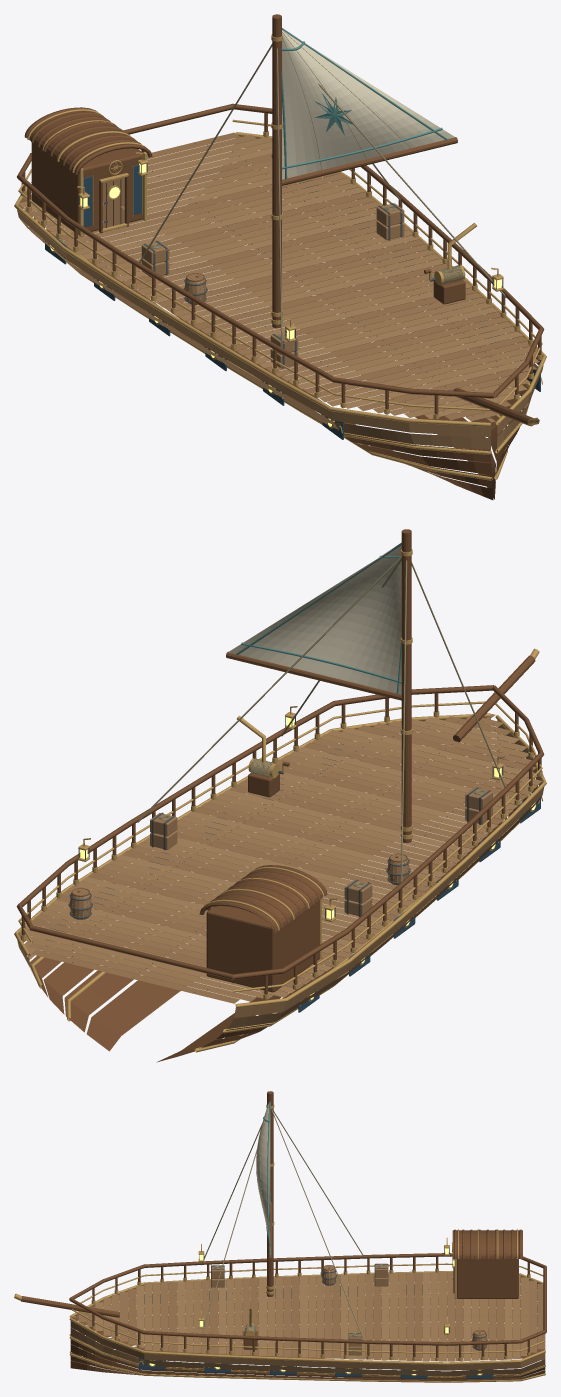
The model's file is starsail-v02.glb.
3 renders of one model, top to bottom at view 1: azimuth 30°, elevation 25°; view 2: azimuth 150°, elevation 25°; view 3: azimuth 270°, elevation 25°, orthographic. The views are drawn at different scales.
Visible parts, largest first — view 1: Walnut hull, Honey plank 1, Honey plank 0, Honey plank 2, Honey plank 3, Honey plank 4, Aged brass, Billowing ivory solar sail, Hemp rigging, Midnight hull panels, Blue green sail hem, Forged iron; view 2: Walnut hull, Honey plank 1, Honey plank 0, Honey plank 2, Honey plank 3, Billowing ivory solar sail, Honey plank 4, Aged brass, Hemp rigging, Forged iron, Midnight hull panels, Blue green sail hem; view 3: Walnut hull, Honey plank 1, Honey plank 0, Aged brass, Honey plank 2, Honey plank 4, Honey plank 3, Hemp rigging, Billowing ivory solar sail, Midnight hull panels, Forged iron.
Part boxes in pixels (<box>): Walnut hull: <box>17,14,544,500</box>; Honey plank 1: <box>19,134,538,449</box>; Honey plank 0: <box>17,132,543,436</box>; Honey plank 2: <box>22,137,537,422</box>; Honey plank 3: <box>18,141,536,417</box>; Honey plank 4: <box>23,147,539,418</box>; Aged brass: <box>14,34,546,480</box>; Billowing ivory solar sail: <box>282,30,454,179</box>; Hemp rigging: <box>139,30,506,347</box>; Midnight hull panels: <box>45,164,540,439</box>; Blue green sail hem: <box>281,28,448,179</box>; Forged iron: <box>50,142,503,428</box>; Walnut hull: <box>16,529,544,1062</box>; Honey plank 1: <box>20,715,541,1028</box>; Honey plank 0: <box>17,716,544,1017</box>; Honey plank 2: <box>25,714,537,998</box>; Honey plank 3: <box>18,719,542,997</box>; Billowing ivory solar sail: <box>228,545,401,694</box>; Honey plank 4: <box>25,717,537,993</box>; Aged brass: <box>14,549,546,1052</box>; Hemp rigging: <box>137,555,505,887</box>; Forged iron: <box>68,716,536,1000</box>; Midnight hull panels: <box>45,743,540,1012</box>; Blue green sail hem: <box>235,542,401,694</box>; Walnut hull: <box>21,1091,546,1381</box>; Honey plank 1: <box>70,1263,545,1376</box>; Honey plank 0: <box>70,1270,545,1370</box>; Aged brass: <box>14,1104,545,1382</box>; Honey plank 2: <box>71,1269,528,1361</box>; Honey plank 4: <box>95,1270,512,1361</box>; Honey plank 3: <box>103,1268,520,1361</box>; Hemp rigging: <box>201,1103,384,1340</box>; Billowing ivory solar sail: <box>256,1103,270,1251</box>; Midnight hull panels: <box>139,1284,493,1378</box>; Forged iron: <box>76,1248,543,1376</box>.
Bounding box in the file's own units: 13.37 × 17.18 × 32.57.
